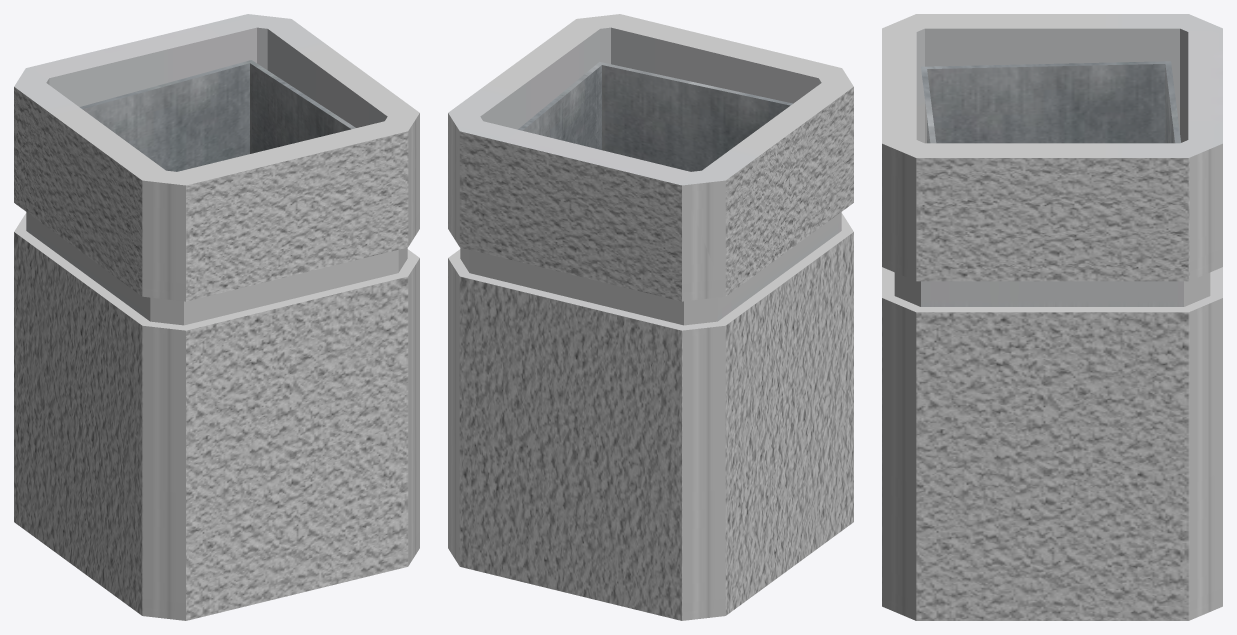
The model's file is bin_371.glb.
The picture shows the model from 3 angles, left to right: view 1: azimuth 30°, elevation 25°; view 2: azimuth 150°, elevation 25°; view 3: azimuth 270°, elevation 25°; orthographic projection. The views are drawn at different scales.
Visible parts, largest first — view 1: bin_371; view 2: bin_371; view 3: bin_371.
Part boxes in pixels (x1=…): bin_371: x1=14, y1=14, x2=419, y2=620; bin_371: x1=448, y1=14, x2=853, y2=620; bin_371: x1=882, y1=14, x2=1222, y2=620.
Size of the model in its own units: 0.467 by 0.7 by 0.467.
Materials: 1 (1 with a texture image).
